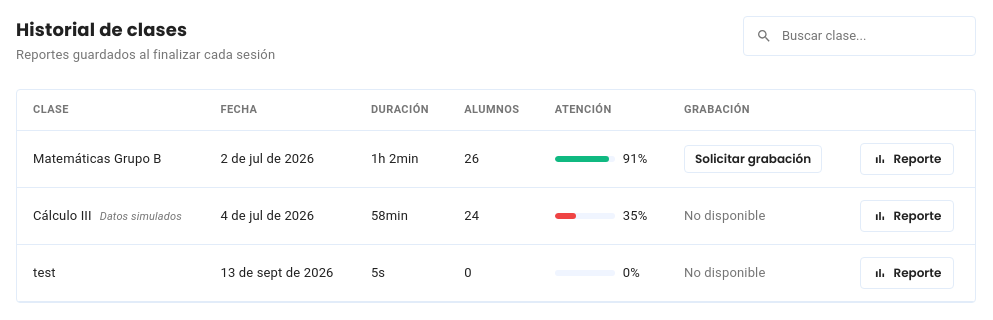
Test: HistoryTab › requests a recording and reflects the enqueued status
This screenshot has width=993, height=320.
Click the button with test id "dashboard-history-recording-request-RM00000000000000000000000000000abc" at (753, 159), box [684,145,822,173]
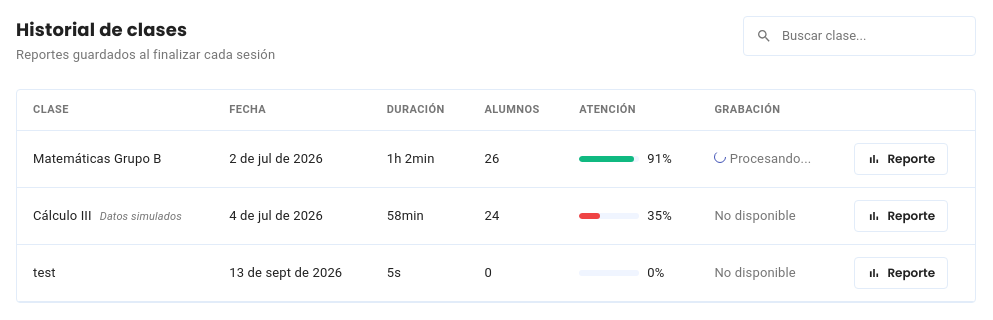
Expected: the element with test id "dashboard-history-recording-pending-RM00000000000000000000000000000abc" is shown, [714,149,811,169]
